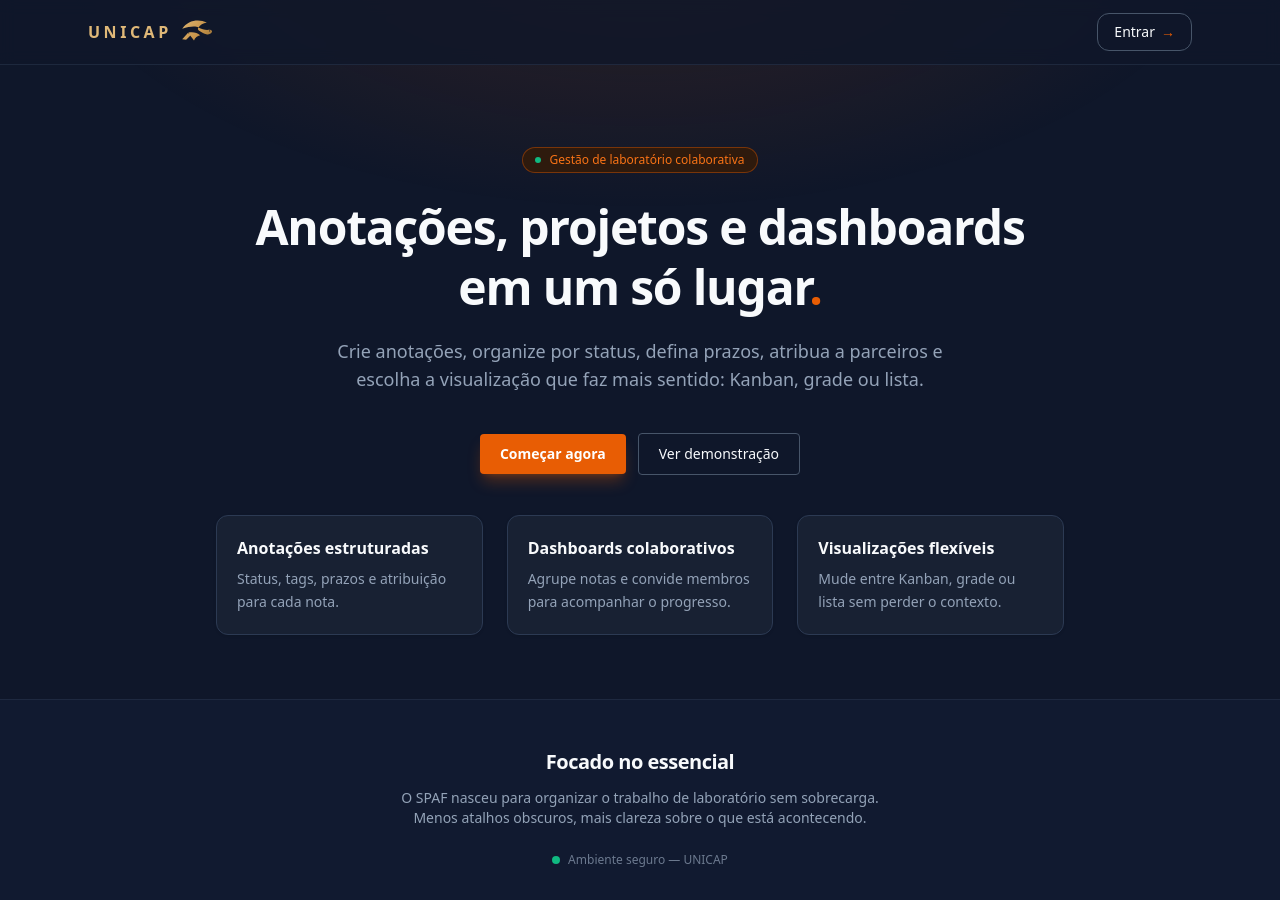
Scenario: Landing page (pública) › 'Ver demonstração' sem sessão leva para a autenticação
What coordinates should you click on to do the following:
click the link "Ver demonstração"
I would click on:
 (719, 454)
Its box is x1=638 y1=433 x2=800 y2=475.
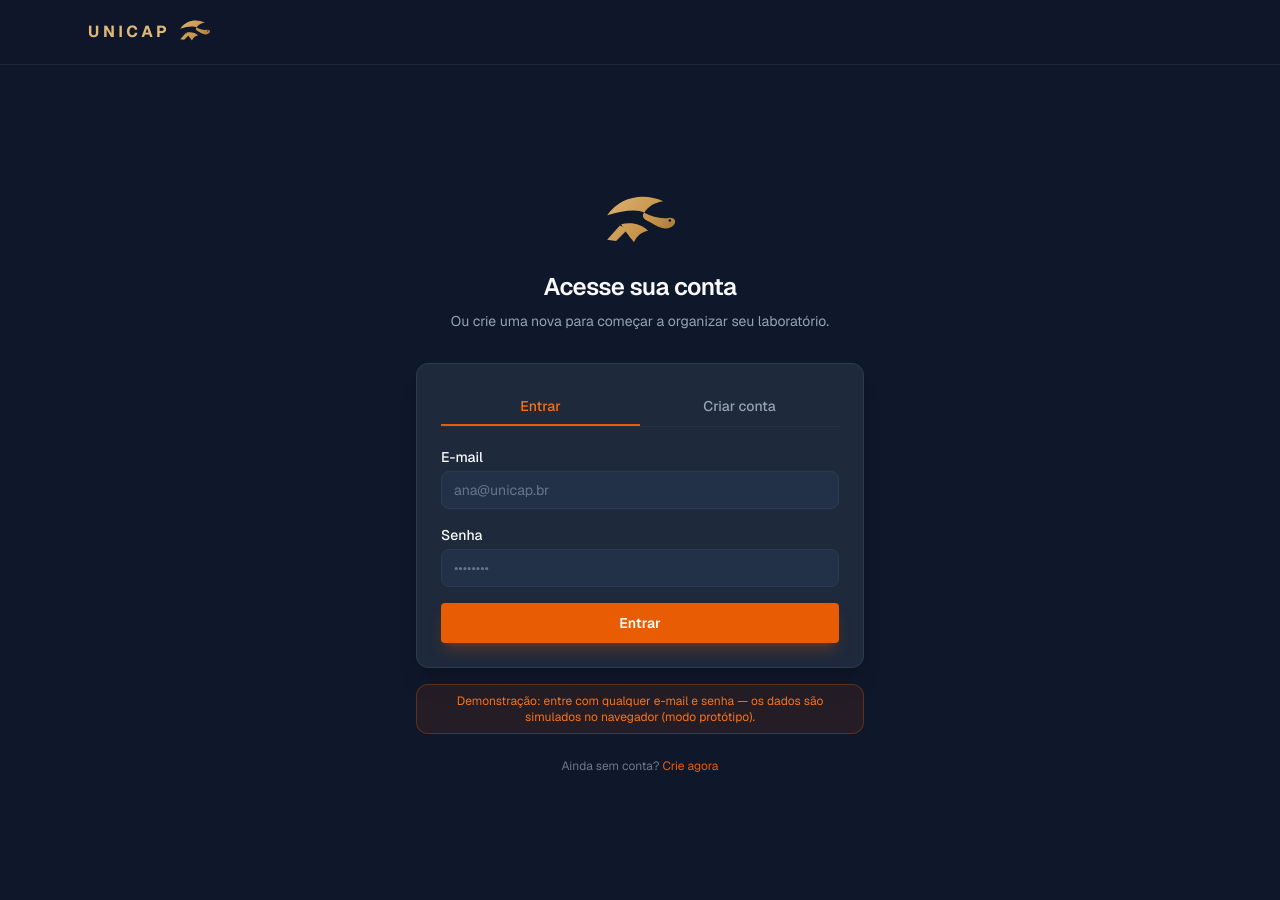
Check: the heading "Acesse sua conta" is shown, box x1=544 y1=271 x2=736 y2=302
